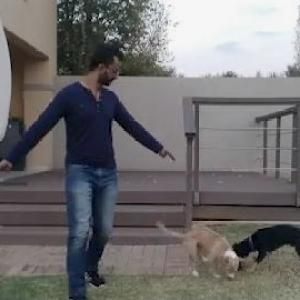land: (1, 44, 176, 292)
